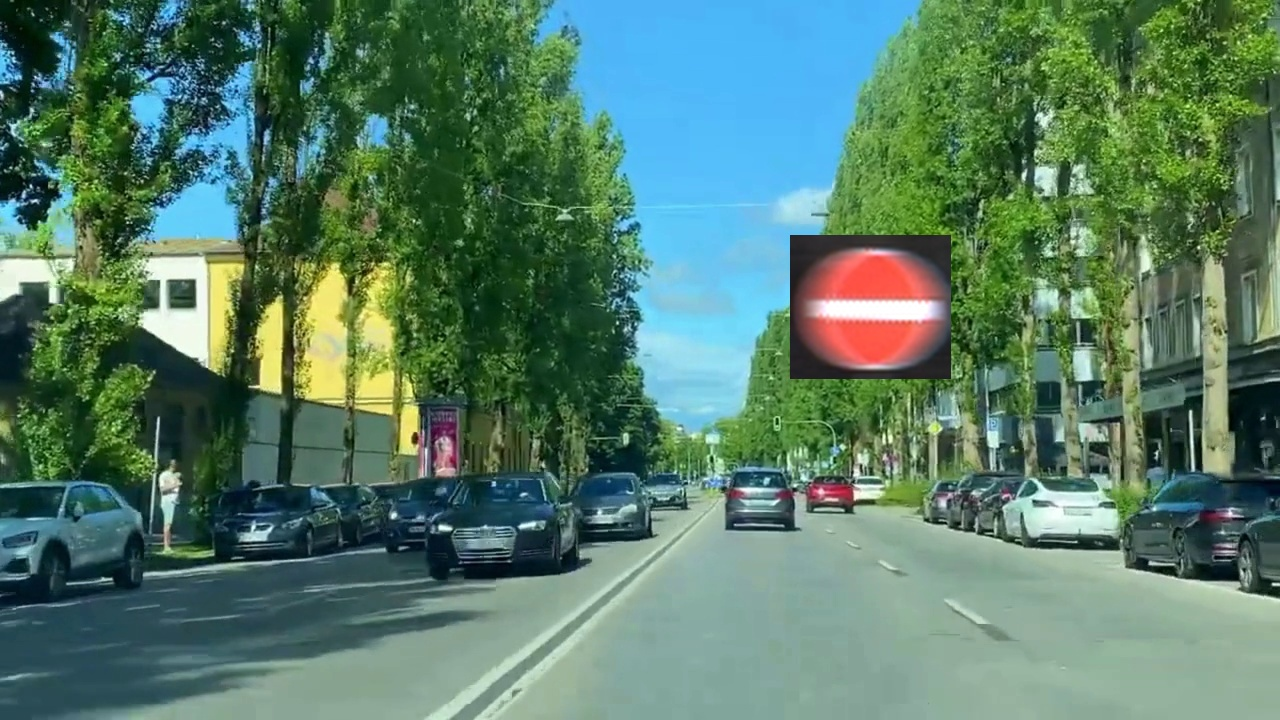No entry: (790, 235, 951, 379)
